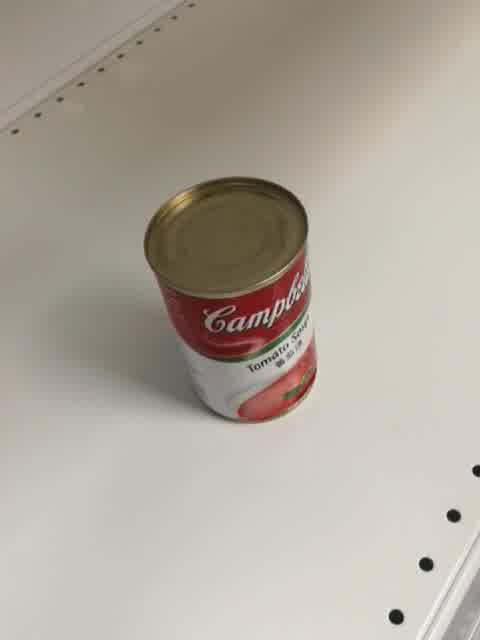tomatosoup: (142, 176, 317, 424)
